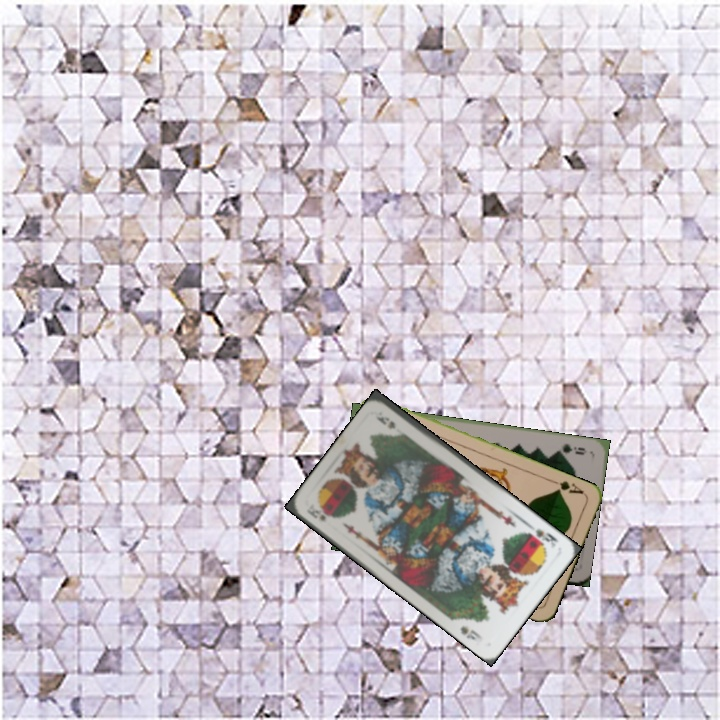G9: (551, 439, 587, 457)
GA: (548, 476, 587, 497)
SK: (524, 524, 561, 551), (303, 500, 337, 524)
